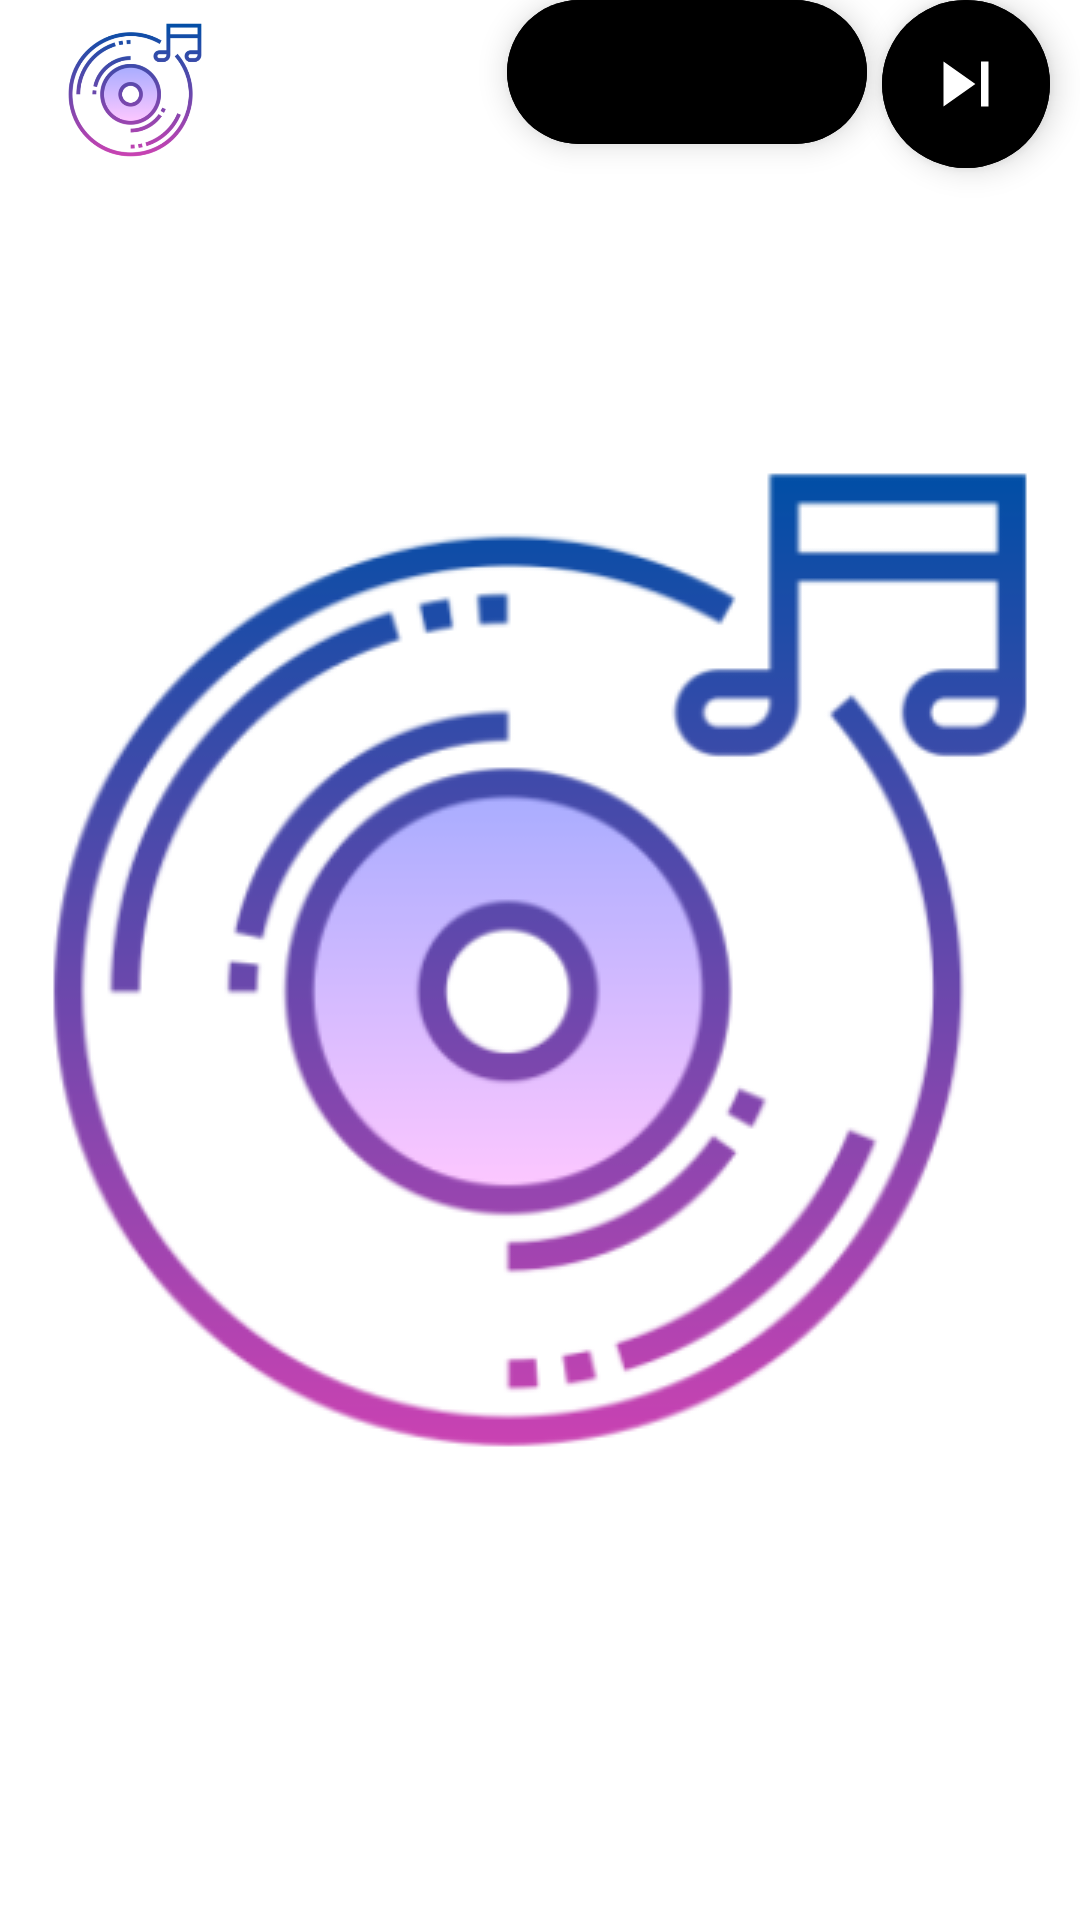

Named icons in this screenshot (1080 x 1920) and their bounding boxes, (x1, y1, x2, y2):
next: (882, 0, 1050, 168)
